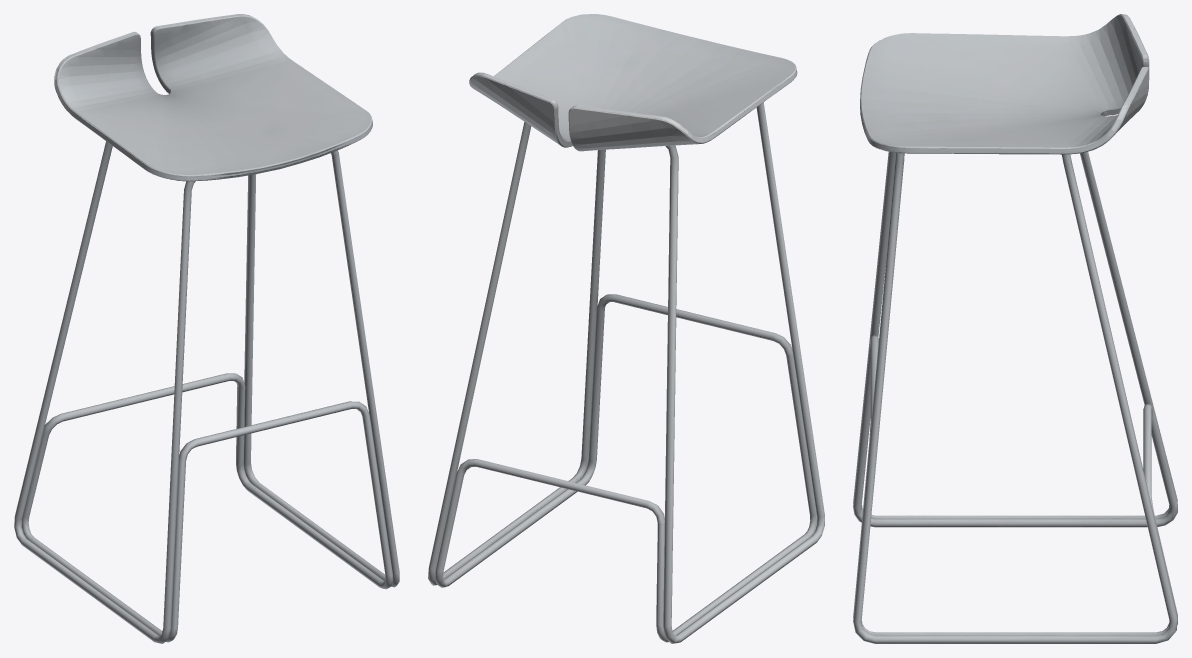
3 views of the same model, side by side, from view 1: azimuth 30°, elevation 25°; view 2: azimuth 150°, elevation 25°; view 3: azimuth 270°, elevation 25° (orthographic). The views are drawn at different scales.
Visible parts, largest first — view 1: link-white; view 2: link-white; view 3: link-white.
Boxes of the visible parts, <box> form: link-white: <box>14,14,399,643</box>; link-white: <box>428,14,824,643</box>; link-white: <box>853,14,1177,643</box>.
Size of the model in its own units: 0.4089 by 0.8048 by 0.4525.
1 material, 1 textured.
